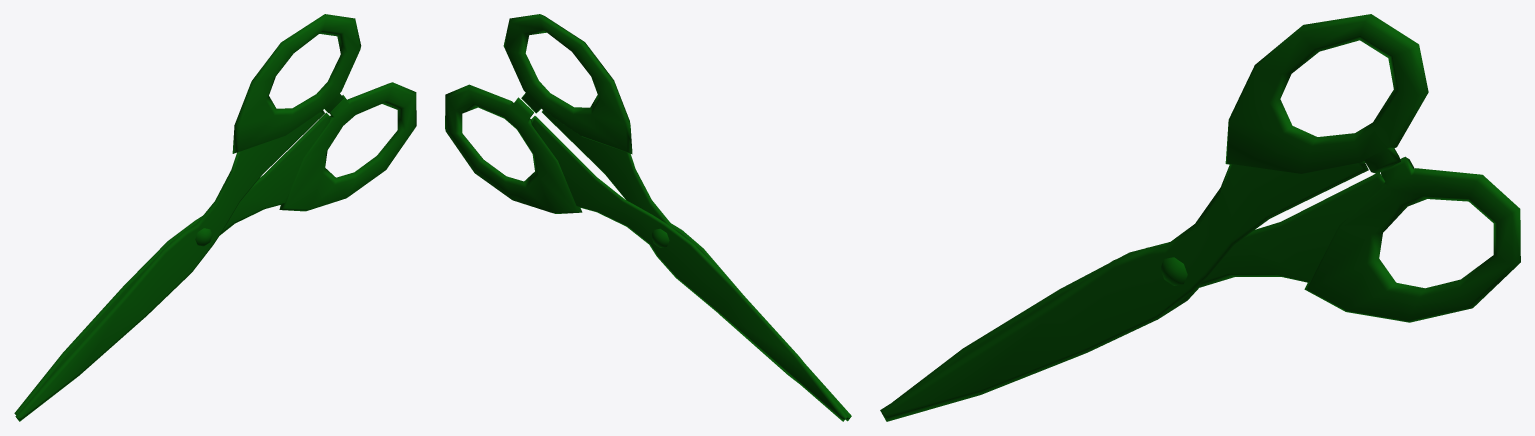
Rendered from scissors.obj.
The picture shows the model from 3 angles, left to right: view 1: azimuth 30°, elevation 25°; view 2: azimuth 150°, elevation 25°; view 3: azimuth 330°, elevation 25°; orthographic projection. The views are drawn at different scales.
Parts seen in each view (by area): view 1: polySurface7; view 2: polySurface7; view 3: polySurface7.
Boxes of the visible parts, x1,y1,x2,y2 form: polySurface7: (14, 14, 416, 421); polySurface7: (445, 14, 851, 421); polySurface7: (880, 14, 1520, 421).
Size of the model in its own units: 15.32 by 12.06 by 0.6289.
